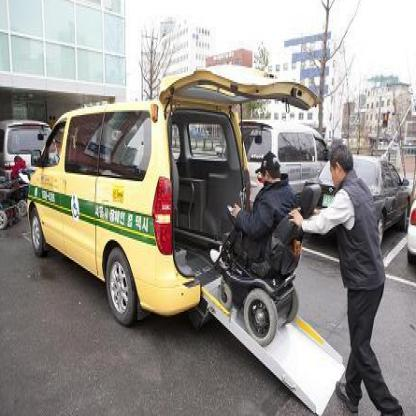wheelchair: (217, 146, 316, 342)
